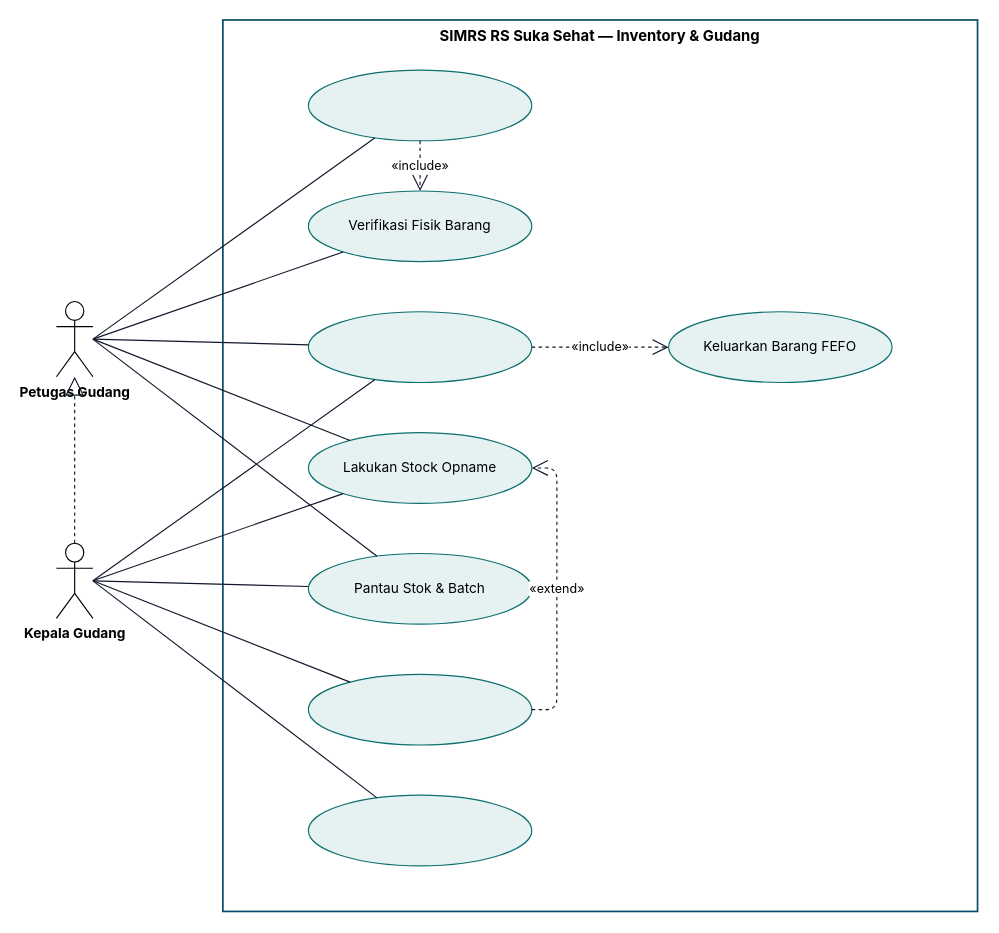
Image size: 999x933. Some labels were removed from this diagram. Here are the shapes that lost their labels. From the top down, the centre of each, then its label:
At (419,105): "Terima Barang".
At (419,346): "Kelola Permintaan Mutasi".
At (419,709): "Approval Stock Opname".
At (419,830): "Lihat Audit Log Gudang".
